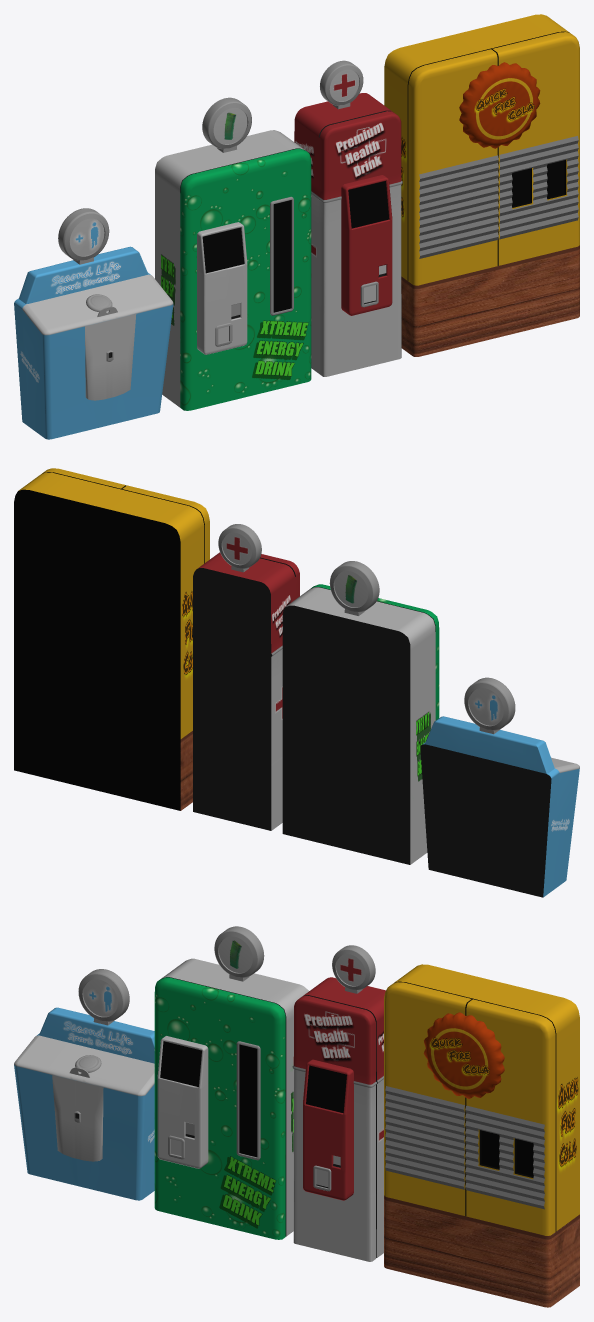
Rendered from AllPerkMachines.fbx.
3 views of the same model, one above another, from view 1: azimuth 30°, elevation 25°; view 2: azimuth 150°, elevation 25°; view 3: azimuth 330°, elevation 25° (orthographic).
Parts seen in each view (by area): view 1: QuickFireMachine, FastReloadMachine, CoinSlot1, HealthMachine; view 2: QuickFireMachine, FastReloadMachine, HealthMachine, CoinSlot1; view 3: QuickFireMachine, FastReloadMachine, HealthMachine, CoinSlot1.
Boxes of the visible parts, box(x1,y1,x2,y2) form: QuickFireMachine: box(384, 14, 579, 356); FastReloadMachine: box(155, 97, 311, 410); CoinSlot1: box(14, 208, 173, 439); HealthMachine: box(294, 60, 402, 376); QuickFireMachine: box(14, 468, 209, 810); FastReloadMachine: box(282, 561, 439, 864); HealthMachine: box(192, 524, 299, 830); CoinSlot1: box(420, 677, 579, 897); QuickFireMachine: box(384, 964, 579, 1307); FastReloadMachine: box(154, 926, 308, 1239); HealthMachine: box(292, 945, 385, 1261); CoinSlot1: box(14, 969, 154, 1200).
Size of the model in its own units: 1912 by 990 by 239.
